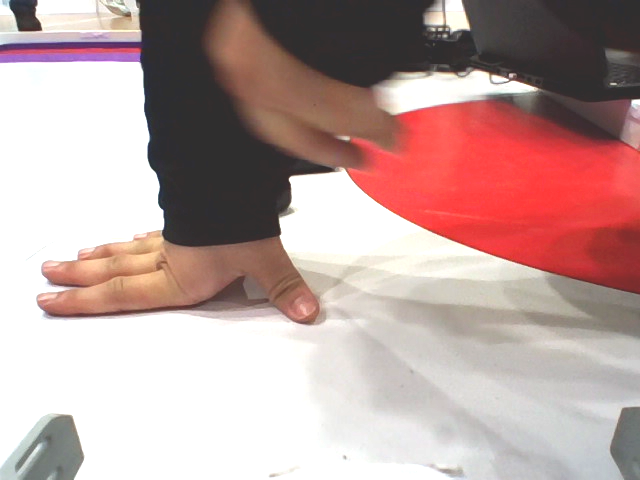kuang: (1, 36, 177, 71)
